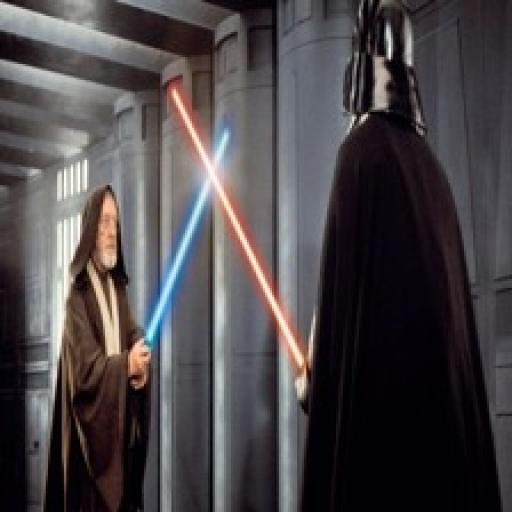human: (39, 180, 158, 512)
lightsaber: (136, 126, 235, 378)
sith saber: (168, 89, 318, 402)
